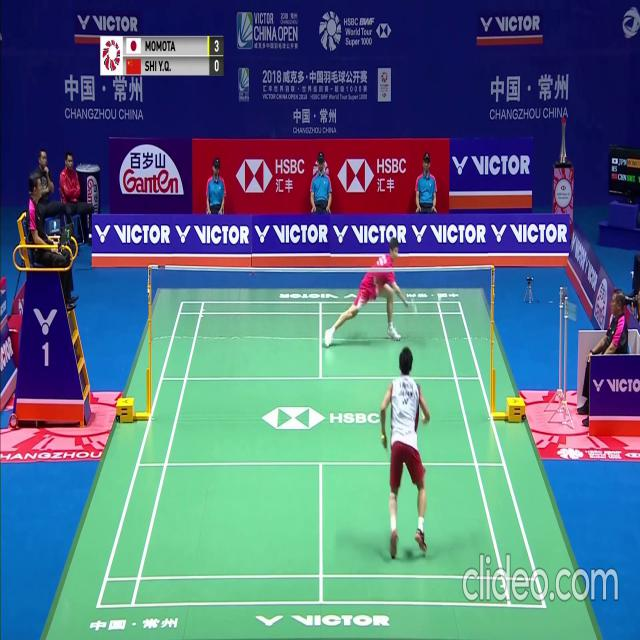Shuttlecock: (437, 295, 441, 302)
